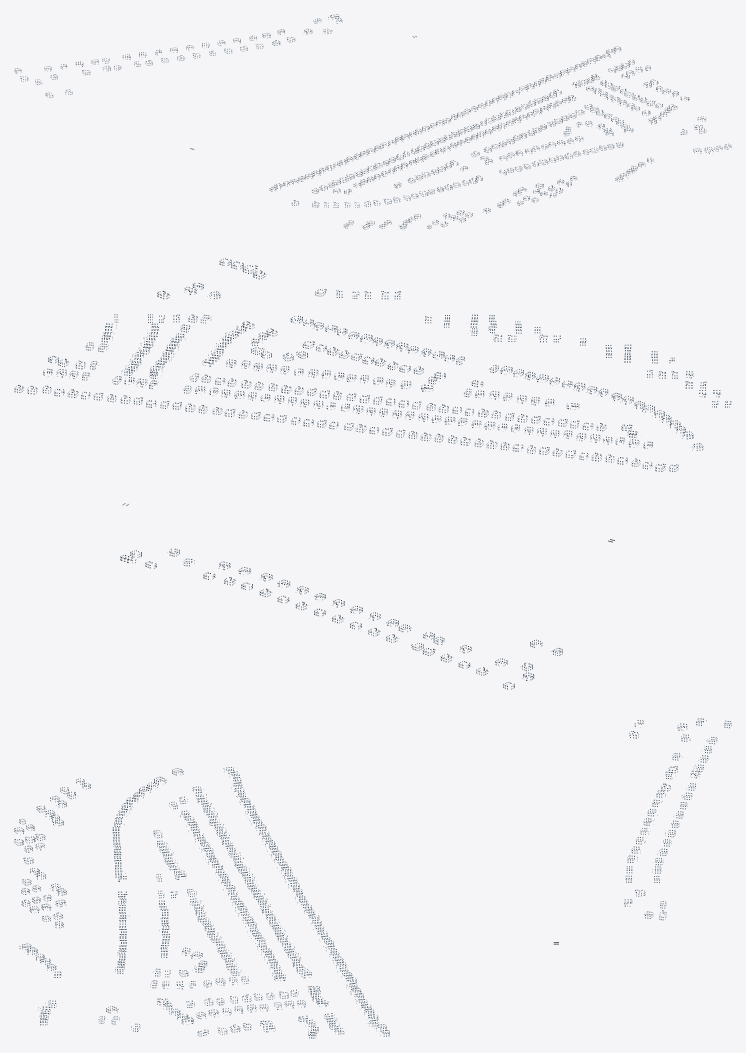
Rendered from SM_GHSPark_Glass.fbx.
3 renders of one model, top to bottom at view 1: azimuth 30°, elevation 25°; view 2: azimuth 150°, elevation 25°; view 3: azimuth 270°, elevation 25°, orthographic. The views are drawn at different scales.
Visible parts, largest first — view 1: SM_GHSPark_Glass; view 2: SM_GHSPark_Glass; view 3: SM_GHSPark_Glass.
Boxes of the visible parts, <box> form: SM_GHSPark_Glass: <box>14,14,731,229</box>; SM_GHSPark_Glass: <box>14,258,731,689</box>; SM_GHSPark_Glass: <box>14,718,731,1038</box>.
Bounding box in the file's own units: 80259 × 76789 × 444.
